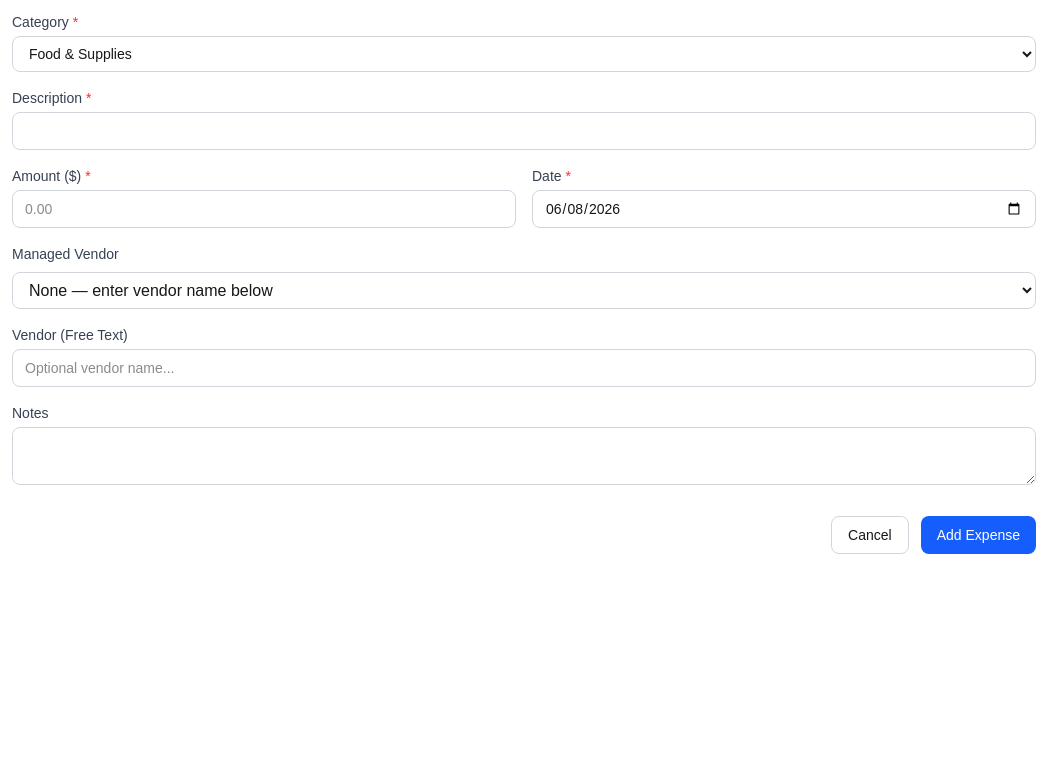
ExpenseForm › validation › shows error when amount is invalid on submit
This screenshot has width=1048, height=780.
Type "Test" into the field labelled "Description *" at (524, 131), box [12, 112, 1036, 150]
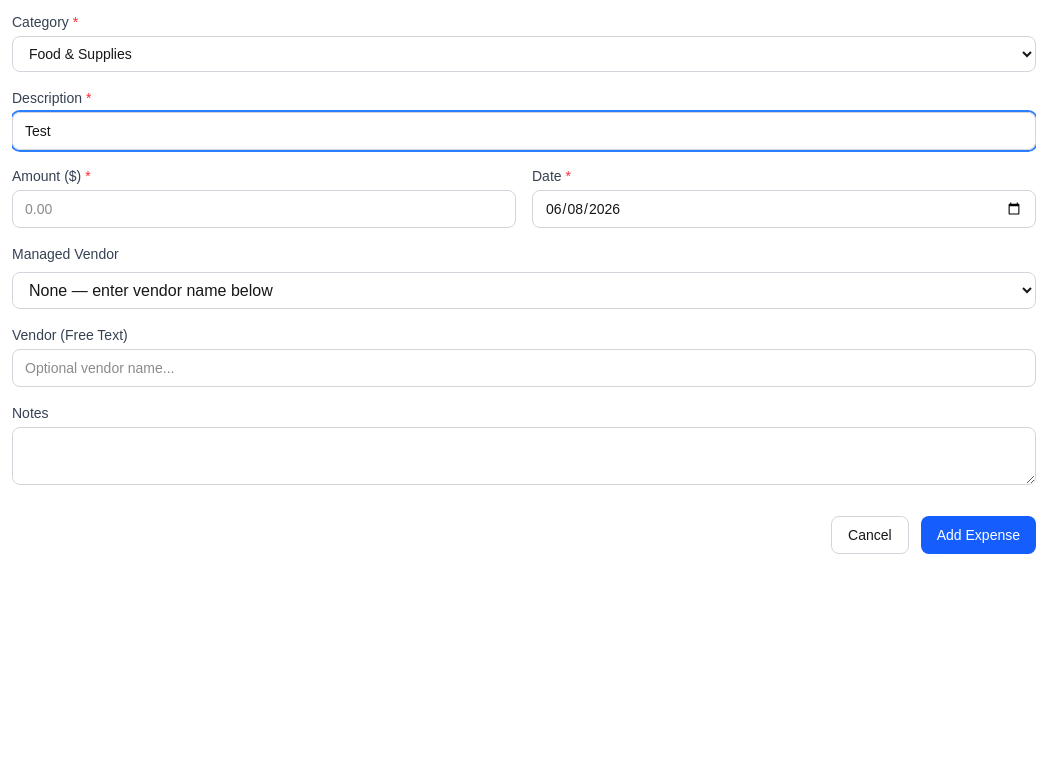
Click the button "Add Expense" at (978, 535), box [921, 516, 1036, 554]
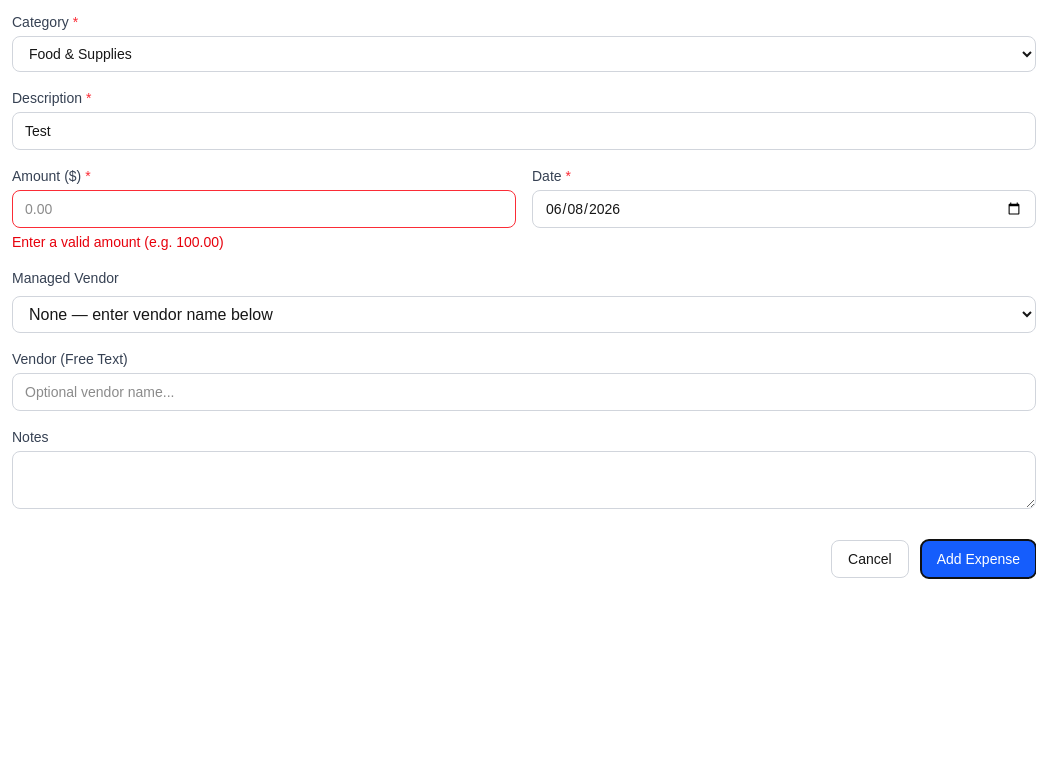
expect the text "Enter a valid amount (e.g. 100.00)" is shown: met, box [12, 234, 224, 250]
